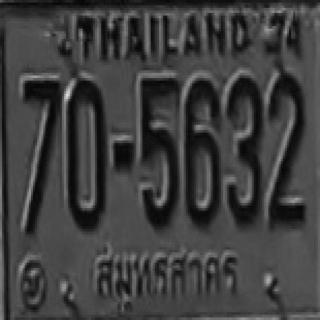N00: (67, 78, 106, 229)
N02: (267, 74, 305, 202)
N03: (225, 74, 262, 225)
N06: (184, 77, 219, 225)
N07: (24, 78, 61, 187)
P58: (89, 247, 246, 314)
